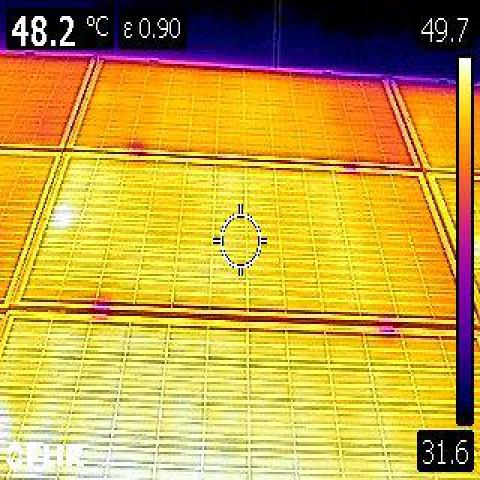fault: (54, 199, 72, 237)
